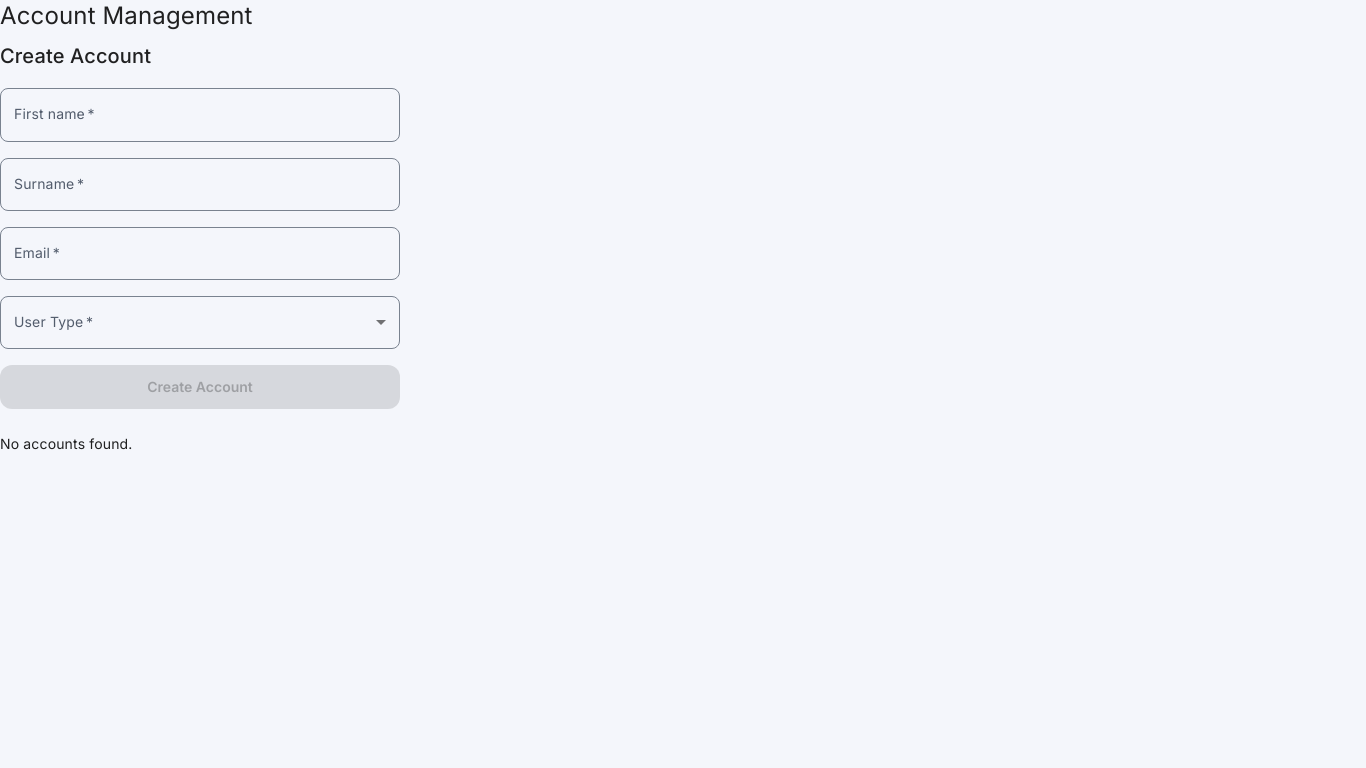
Test: AccountsPage › SR-032.5: sysadmin creator can select System Administrator
This screenshot has width=1366, height=768.
What coordinates should you click on to do the following:
click the dropdown named "user type"
I would click on:
 (200, 322)
Its box is [0, 296, 400, 349].
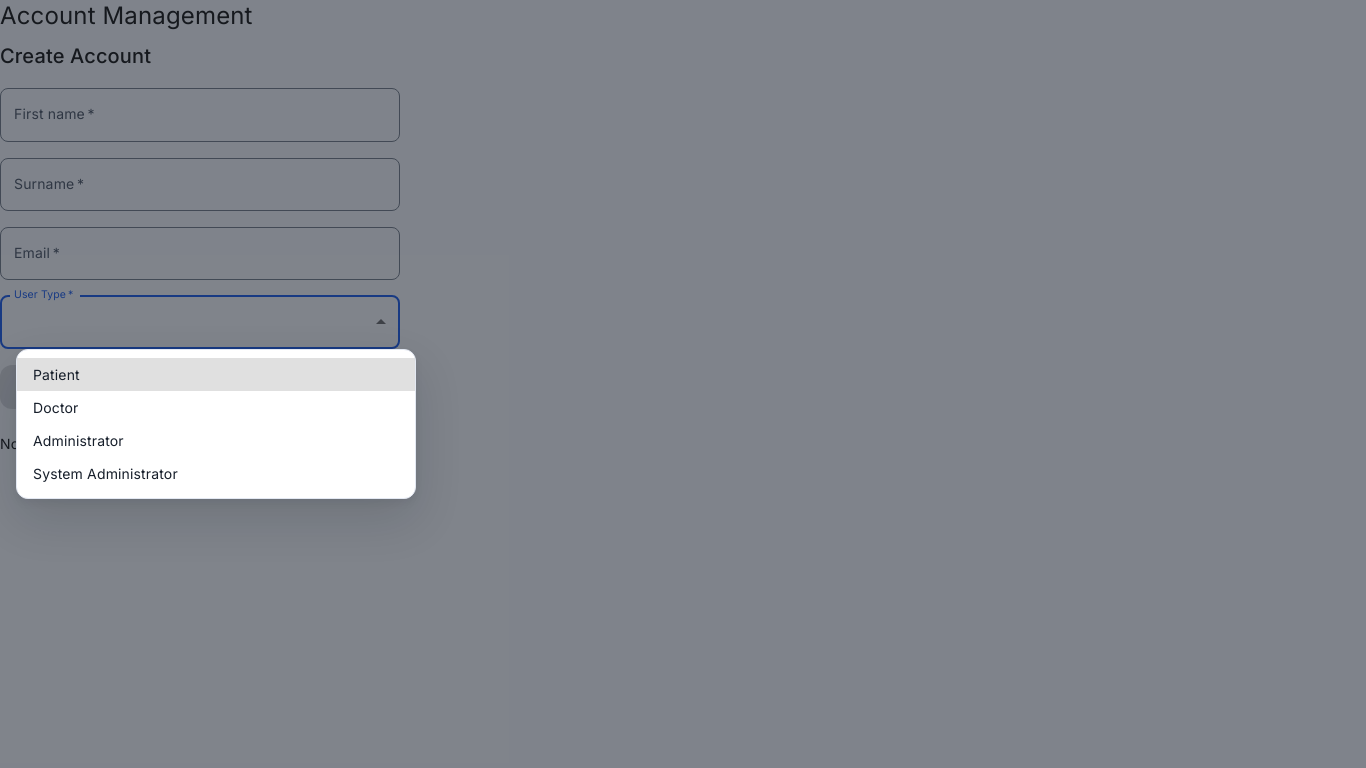
Expected: the option "System Administrator" is shown, [33, 465, 178, 482]
